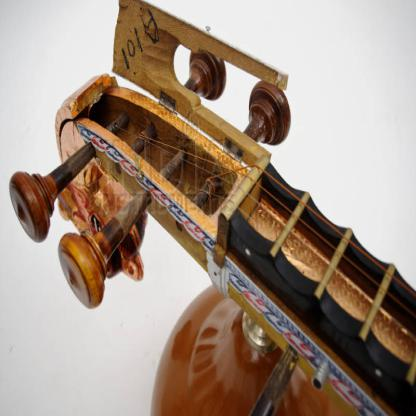Veena: (87, 49, 416, 380)
